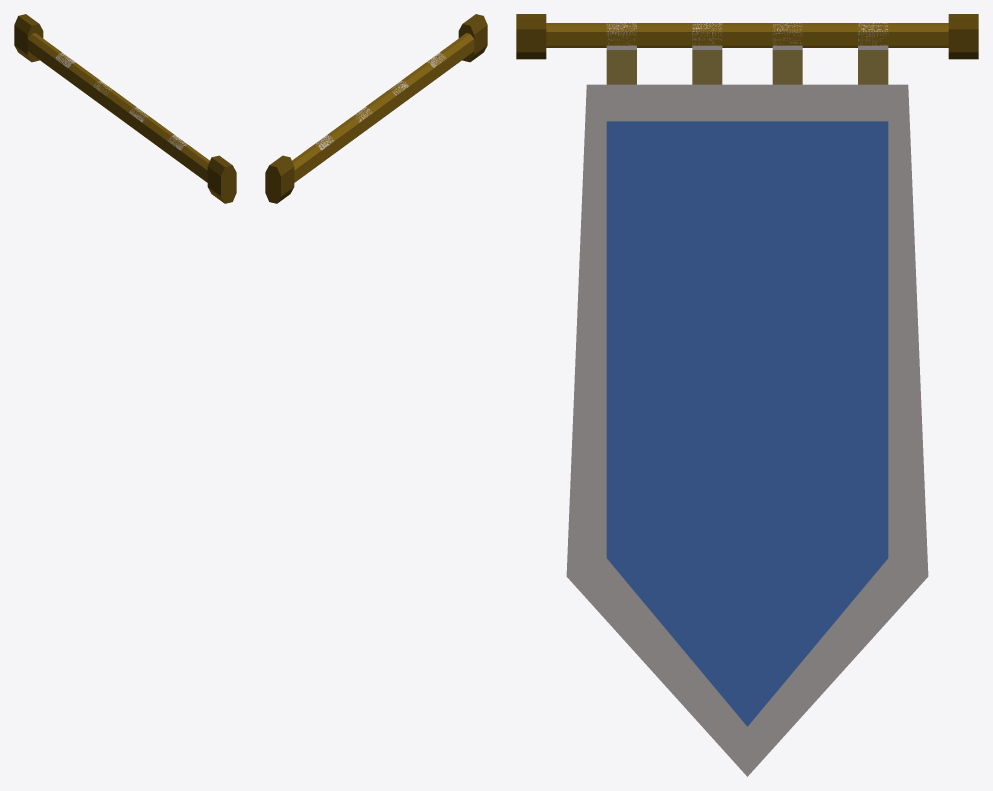
3 renders of one model, left to right at view 1: azimuth 30°, elevation 25°; view 2: azimuth 150°, elevation 25°; view 3: azimuth 270°, elevation 25°, orthographic. The views are drawn at different scales.
Size of the model in its own units: 4 by 168 by 92.
1 material, 1 textured.
